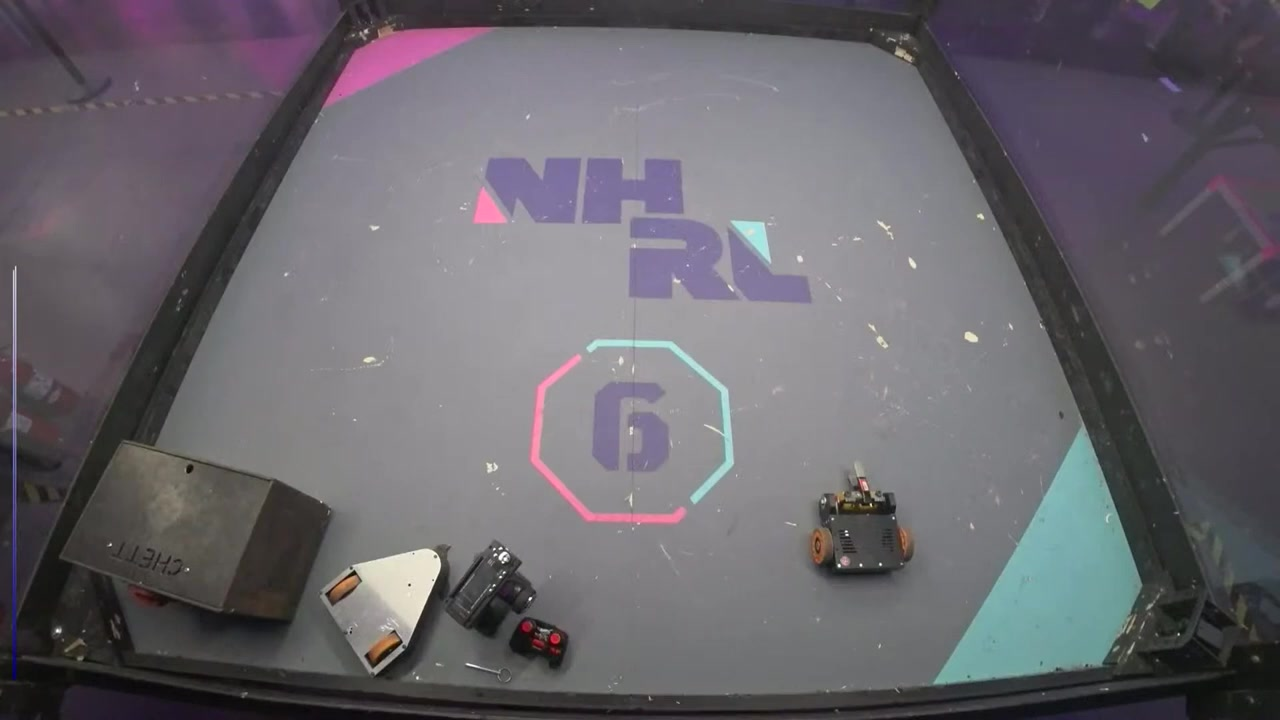combatbot: (320, 544, 451, 675), (808, 473, 914, 578), (448, 540, 536, 638)
housebot: (57, 440, 331, 630)
